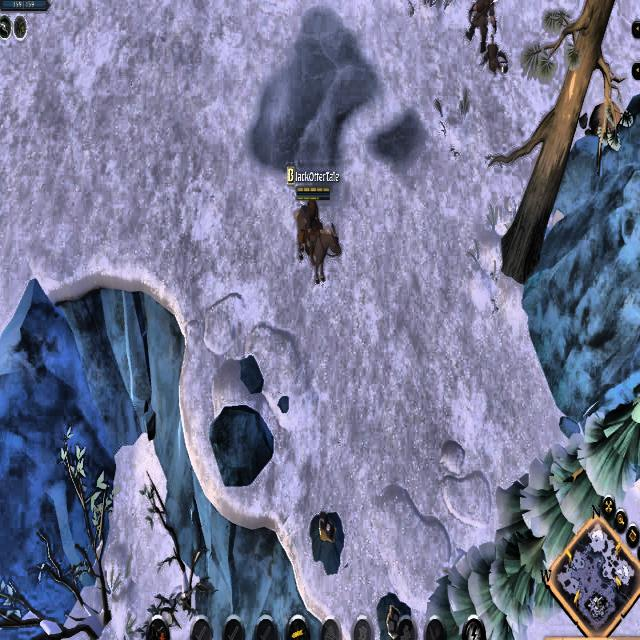copperore: (306, 504, 347, 574), (374, 592, 416, 640)
